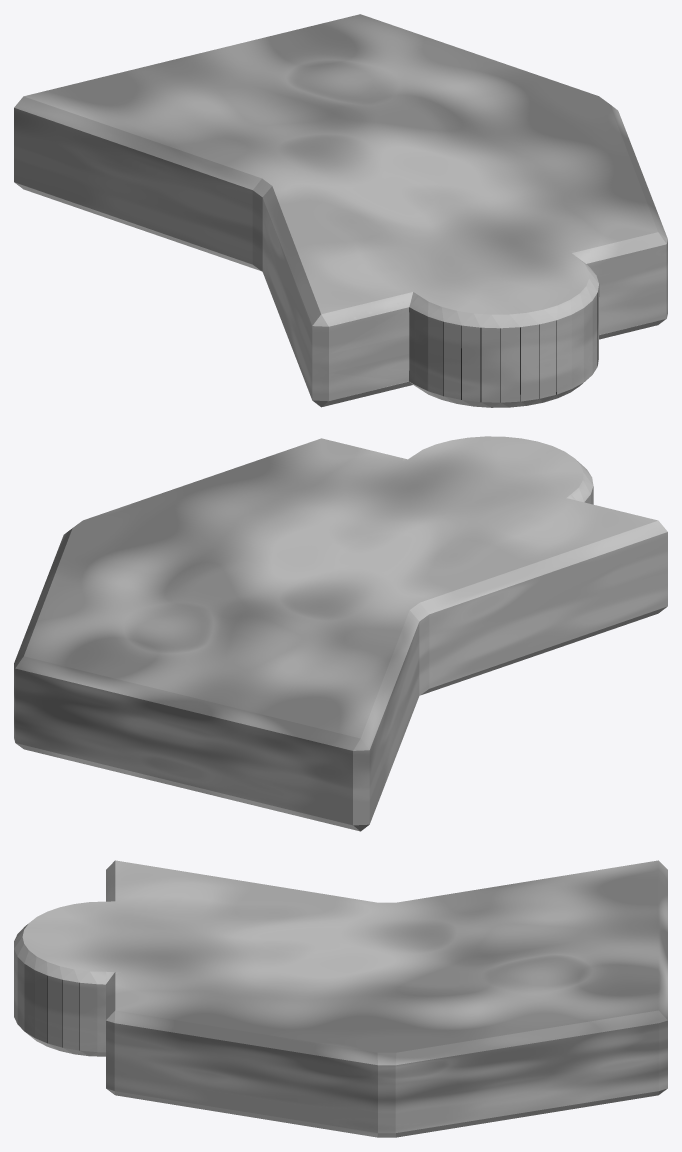
File: NucleotideC.obj
3 views of the same model, one above another, from view 1: azimuth 30°, elevation 25°; view 2: azimuth 150°, elevation 25°; view 3: azimuth 270°, elevation 25° (orthographic). The views are drawn at different scales.
Visible parts, largest first — view 1: C_Nucleotie_Cube.007; view 2: C_Nucleotie_Cube.007; view 3: C_Nucleotie_Cube.007.
Part boxes in pixels (bbox=[...]): C_Nucleotie_Cube.007: bbox=[14, 14, 667, 407]; C_Nucleotie_Cube.007: bbox=[14, 436, 667, 831]; C_Nucleotie_Cube.007: bbox=[14, 860, 667, 1137].
Size of the model in its own units: 31.97 by 6.31 by 44.07.
